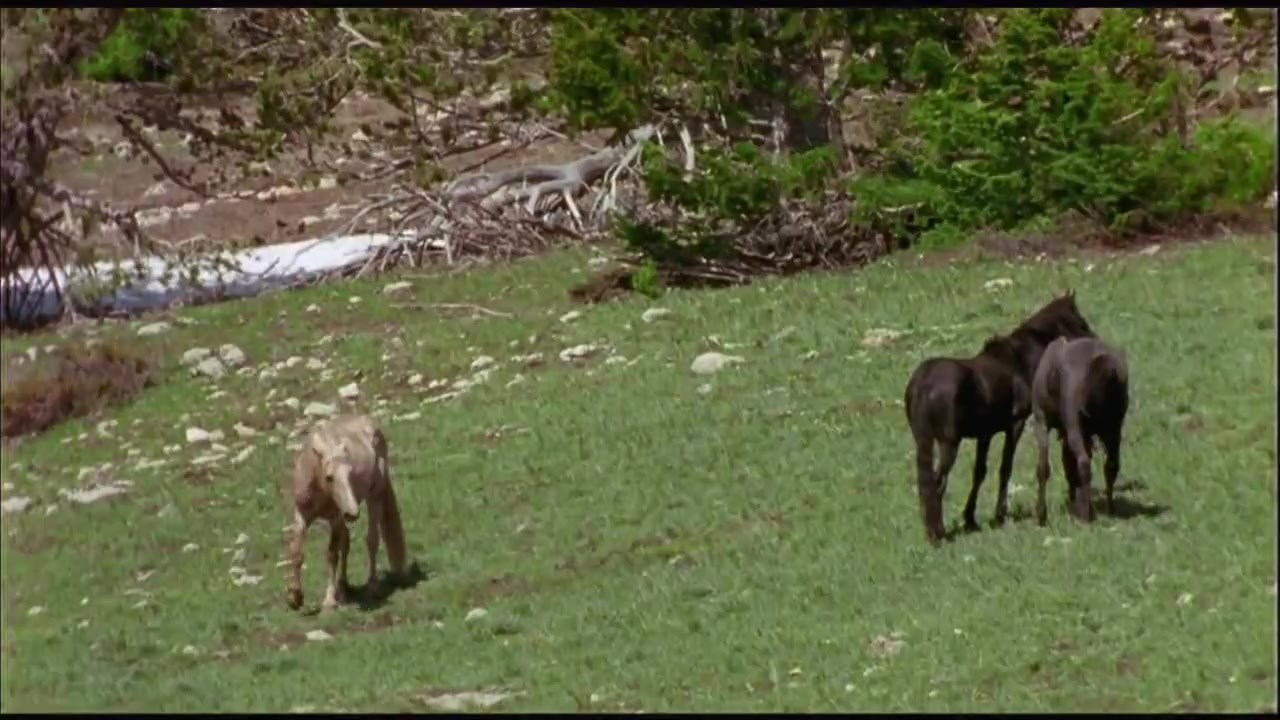horse: (283, 408, 420, 621)
